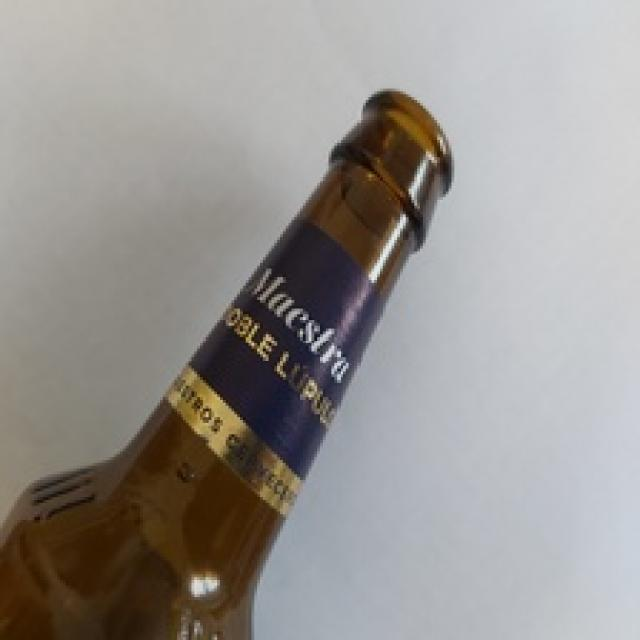garbage: (0, 83, 477, 640)
